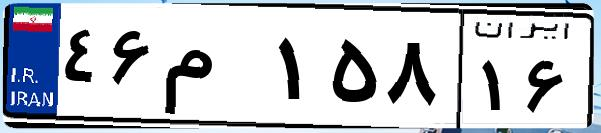1: (270, 28, 330, 110), (475, 38, 525, 113)
4: (57, 26, 110, 100)
5: (330, 28, 385, 110)
6: (525, 38, 570, 115), (110, 28, 158, 98)
8: (385, 28, 445, 110)
م: (158, 20, 270, 120)
